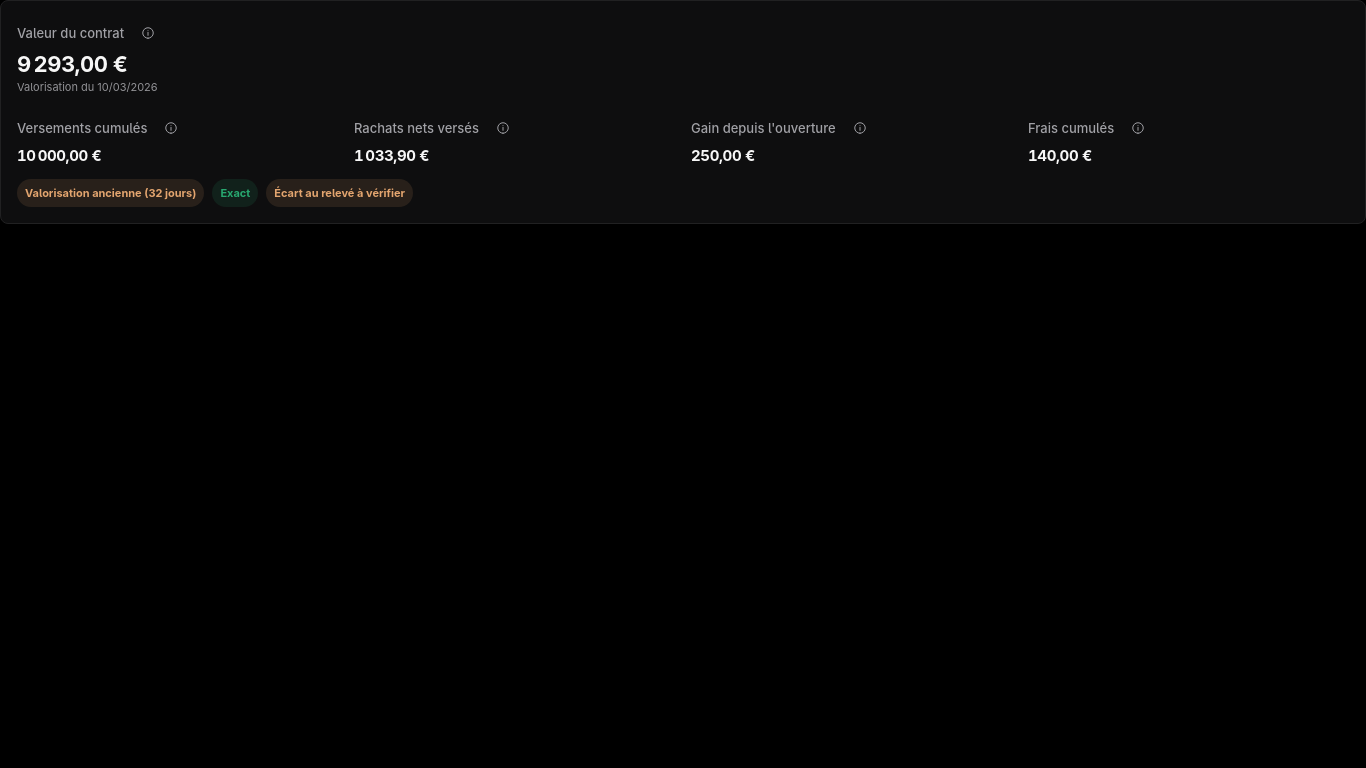
Scenario: LifeInsuranceOverview › shows stale age and observed statement discrepancy
Expected: the text "Valorisation ancienne (32 jours)" is shown, [25,186,196,200]
Click the button named "Expliquer : Valeur du contrat" at (148, 33), box [132,17,164,49]
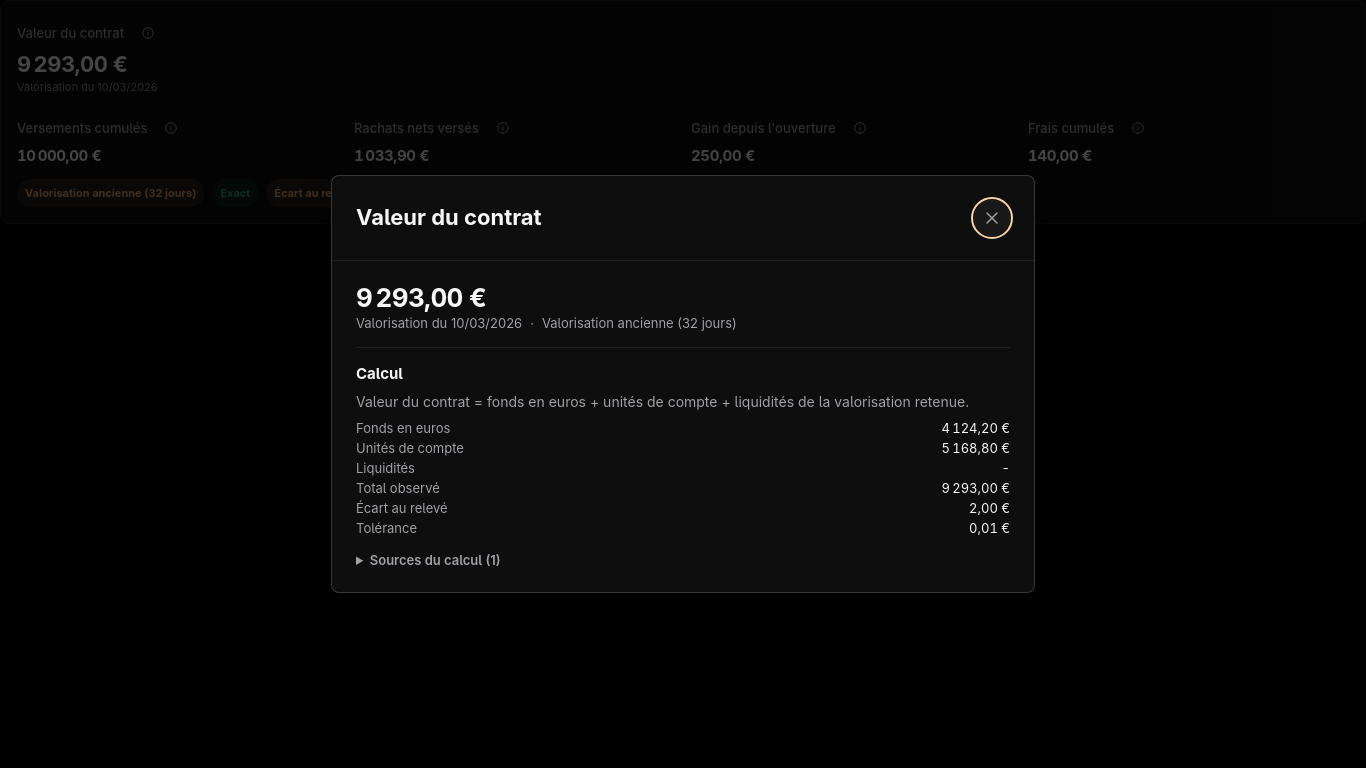
Expected: the text "Écart au relevé" is shown, [356,500,448,516]
